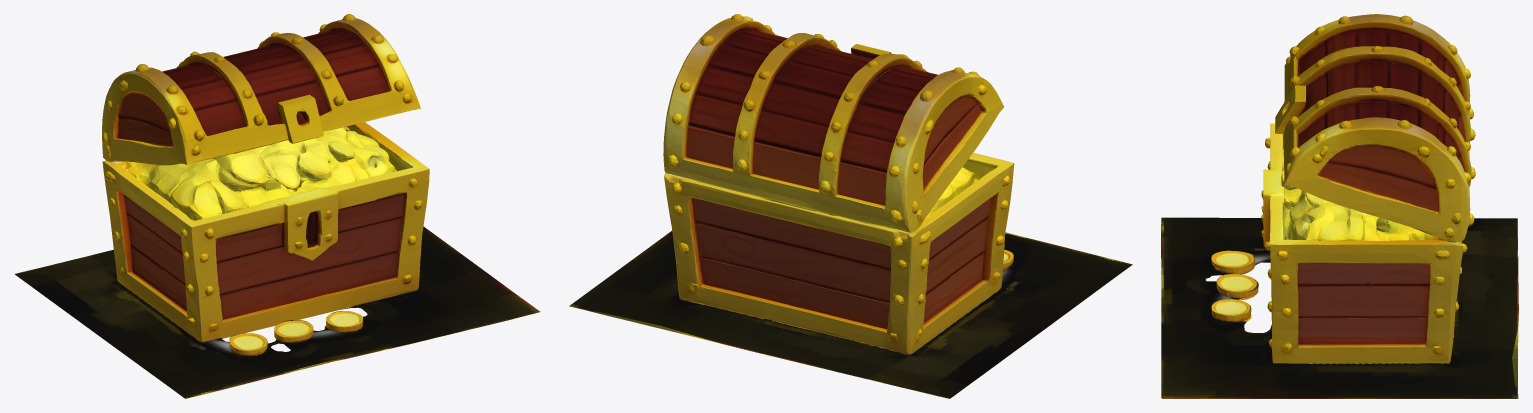
The model's file is treasure-chest.glb.
3 views of the same model, side by side, from view 1: azimuth 30°, elevation 25°; view 2: azimuth 150°, elevation 25°; view 3: azimuth 270°, elevation 25° (orthographic). The views are drawn at different scales.
Visible parts, largest first — view 1: world; view 2: world; view 3: world.
Part boxes in pixels (<box>): world: <box>15,14,540,398</box>; world: <box>569,14,1132,398</box>; world: <box>1161,14,1518,398</box>.
Bounding box in the file's own units: 1 × 0.6261 × 0.8368.
Materials: 1 (1 with a texture image).
